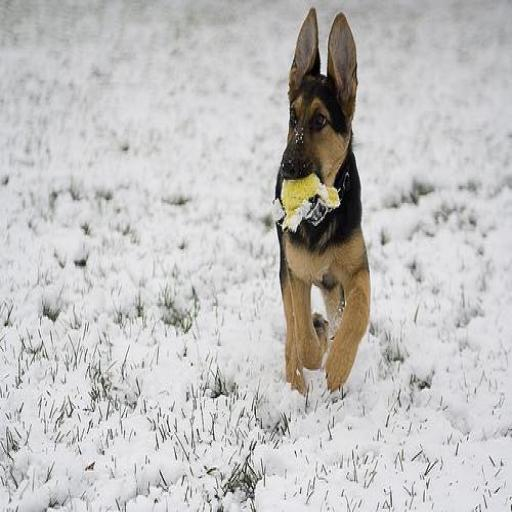dog_face: (284, 12, 354, 194)
